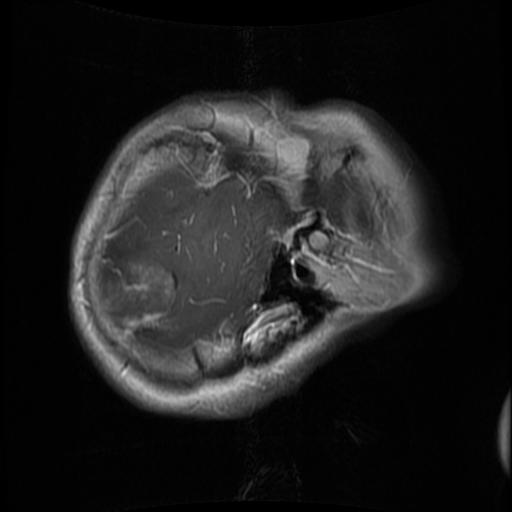glioma: (102, 261, 176, 333)
